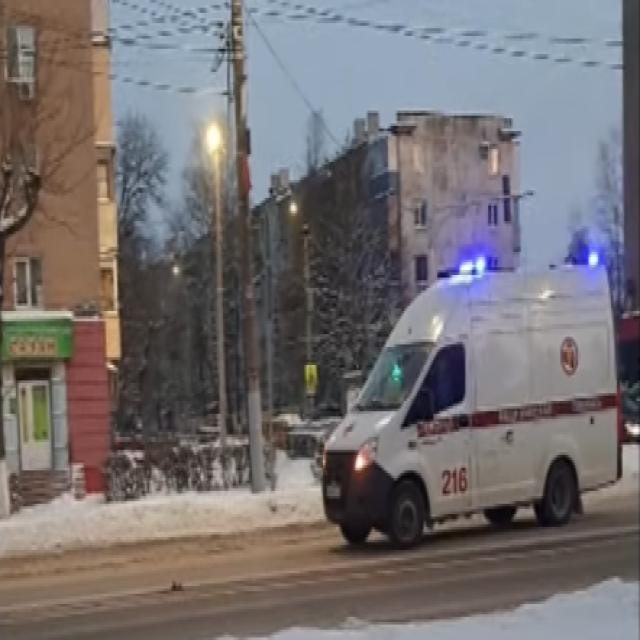ambulance: (322, 259, 628, 550)
